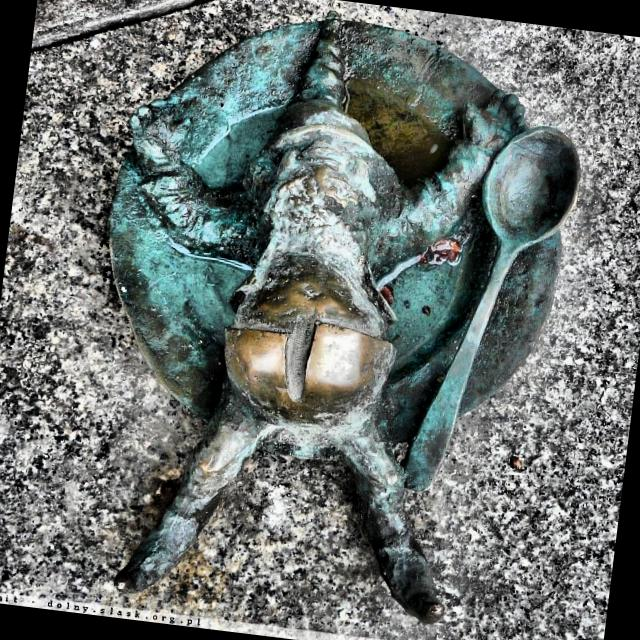Obiezysmak: (109, 14, 578, 626)
